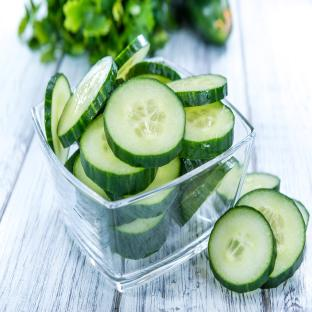Cucumber: (104, 78, 185, 167), (236, 189, 305, 288), (80, 116, 156, 195), (208, 206, 276, 292), (57, 56, 117, 148), (172, 157, 237, 226), (180, 102, 234, 159), (110, 213, 170, 259), (110, 187, 179, 225), (45, 73, 70, 164), (168, 75, 227, 107), (74, 154, 110, 200), (115, 35, 150, 79), (126, 62, 180, 83), (217, 163, 242, 206), (240, 173, 280, 197), (293, 199, 309, 230), (181, 159, 211, 175), (65, 149, 79, 173)
